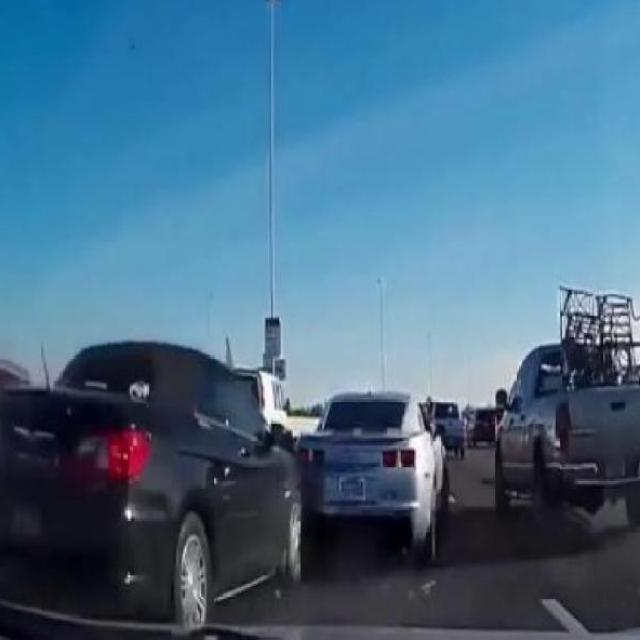accident: (3, 335, 449, 637)
